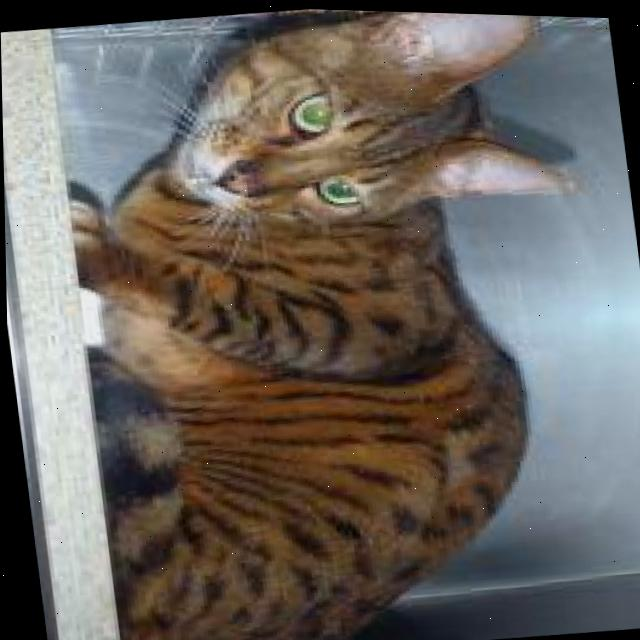Bengal: (37, 1, 640, 640)
